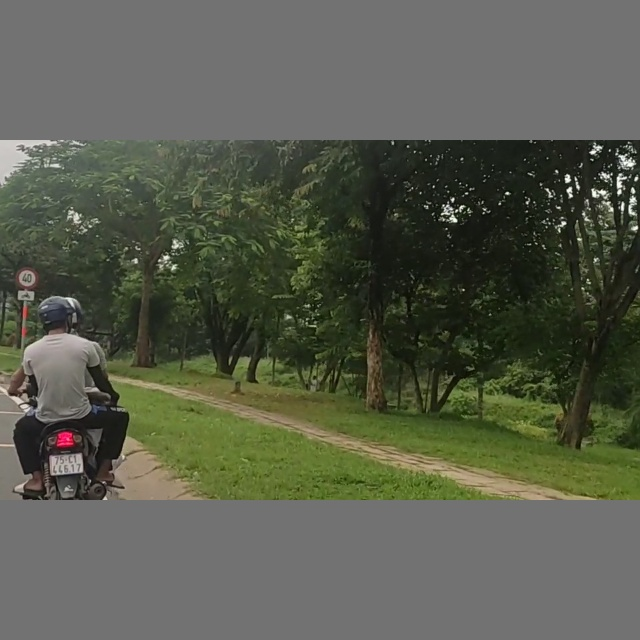P.127*40: (16, 265, 39, 290)
